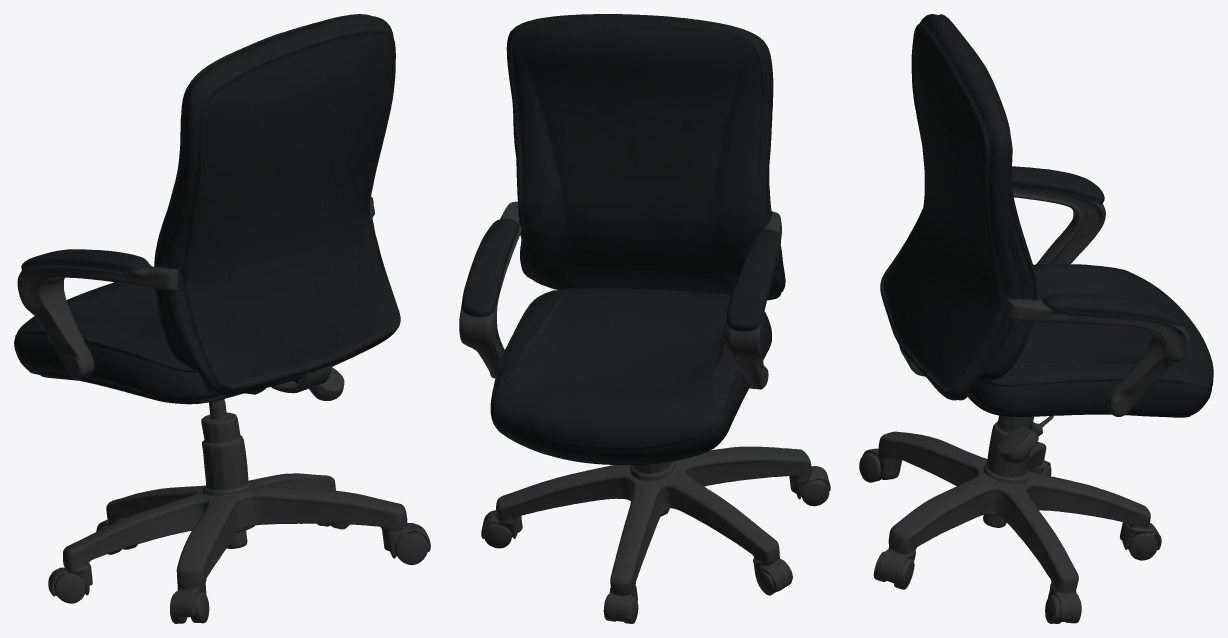
File: pixal3d.glb
3 views of the same model, side by side, from view 1: azimuth 30°, elevation 25°; view 2: azimuth 150°, elevation 25°; view 3: azimuth 270°, elevation 25° (orthographic). The views are drawn at different scales.
Visible parts, largest first — view 1: world; view 2: world; view 3: world.
Part boxes in pixels (x1,y1,x2,y2): world: (14, 14, 430, 623); world: (459, 14, 830, 623); world: (859, 14, 1213, 623).
Size of the model in its own units: 0.5485 by 0.9172 by 0.5512.
1 material, 1 textured.
